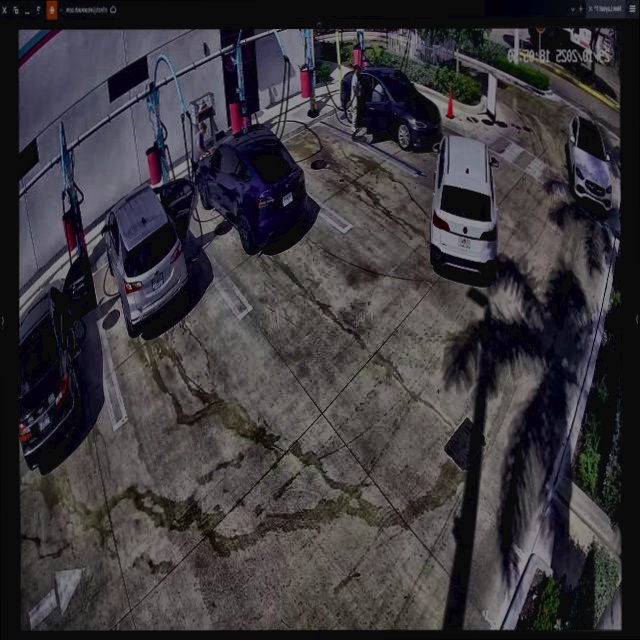Car: (193, 121, 305, 249), (104, 177, 198, 323), (341, 59, 438, 164), (428, 135, 497, 276)
